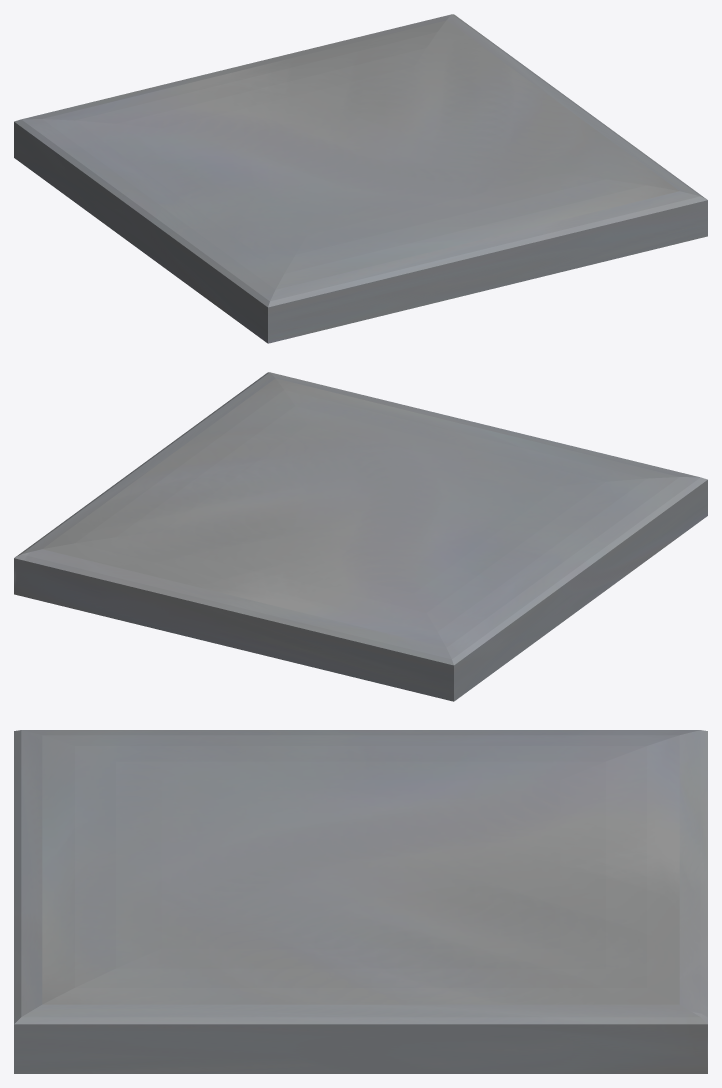
Rendered from Stone_Foundation.fbx.
3 renders of one model, top to bottom at view 1: azimuth 30°, elevation 25°; view 2: azimuth 150°, elevation 25°; view 3: azimuth 270°, elevation 25°, orthographic. The views are drawn at different scales.
Parts seen in each view (by area): view 1: Cube; view 2: Cube; view 3: Cube.
Boxes of the visible parts, x1,y1,x2,y2 form: Cube: (14, 14, 707, 343); Cube: (14, 372, 707, 701); Cube: (14, 730, 707, 1073).
Size of the model in its own units: 20 by 20 by 2.
1 material, 1 textured.
